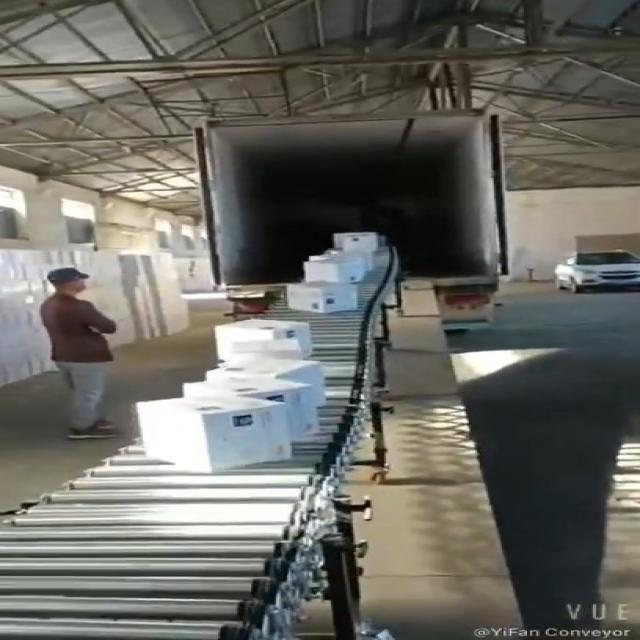Convoyeur: (0, 244, 412, 640)
